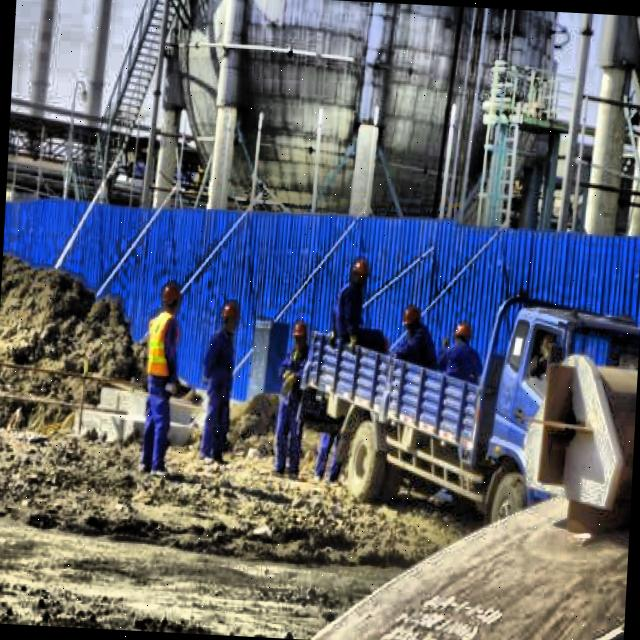helmet: (220, 299, 242, 339), (401, 301, 425, 335), (290, 314, 310, 350), (348, 256, 369, 287), (162, 282, 182, 313), (454, 320, 472, 344)
